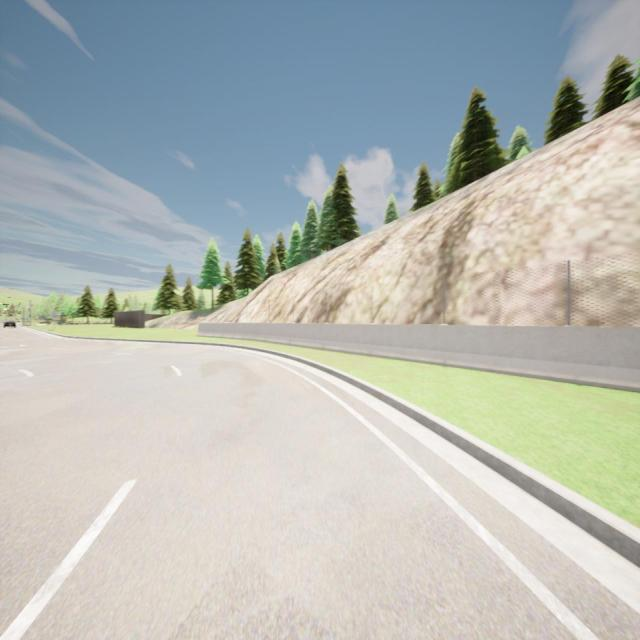Vehicle: (4, 320, 16, 329)
